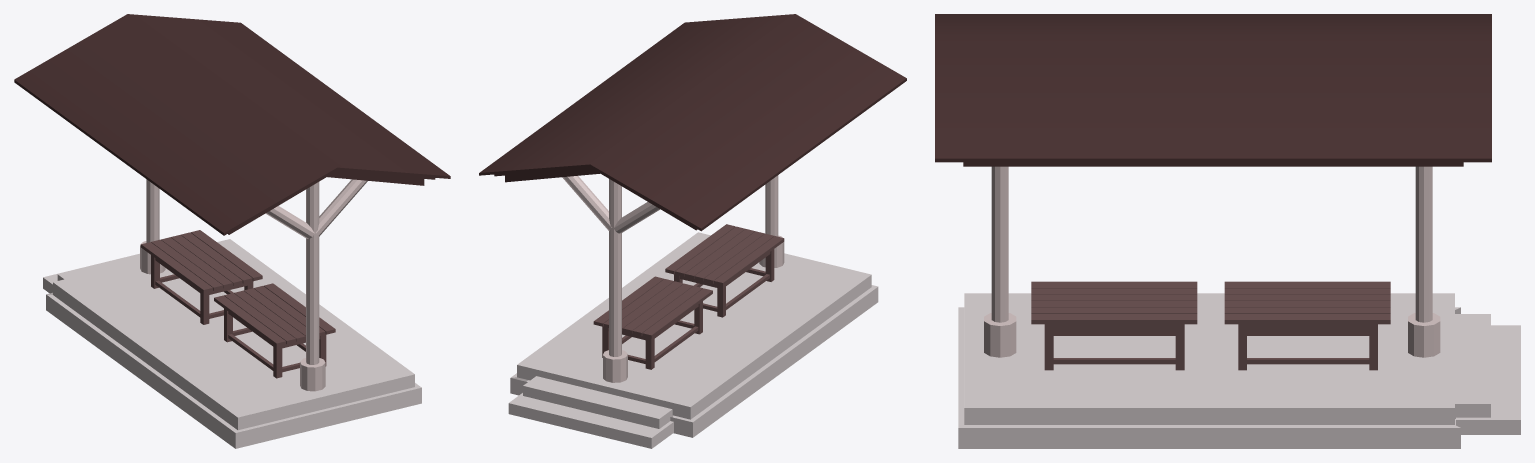
3 views of the same model, side by side, from view 1: azimuth 30°, elevation 25°; view 2: azimuth 150°, elevation 25°; view 3: azimuth 270°, elevation 25° (orthographic). The views are drawn at different scales.
Visible parts, largest first — view 1: shed, floor, chair_2, chair_3; view 2: shed, floor, chair_3, chair_2; view 3: shed, floor, chair_3, chair_2.
Boxes of the visible parts, bbox=[...] form: shed: bbox=[14, 14, 450, 391]; floor: bbox=[43, 239, 421, 448]; chair_2: bbox=[141, 230, 262, 324]; chair_3: bbox=[214, 283, 335, 378]; shed: bbox=[479, 14, 906, 382]; floor: bbox=[508, 232, 878, 448]; chair_3: bbox=[665, 224, 784, 317]; chair_2: bbox=[593, 276, 712, 369]; shed: bbox=[935, 14, 1491, 357]; floor: bbox=[958, 293, 1520, 448]; chair_3: bbox=[1031, 281, 1197, 370]; chair_2: bbox=[1224, 281, 1390, 370].
Bounding box in the file's own units: 12.79 × 14.28 × 21.56.
